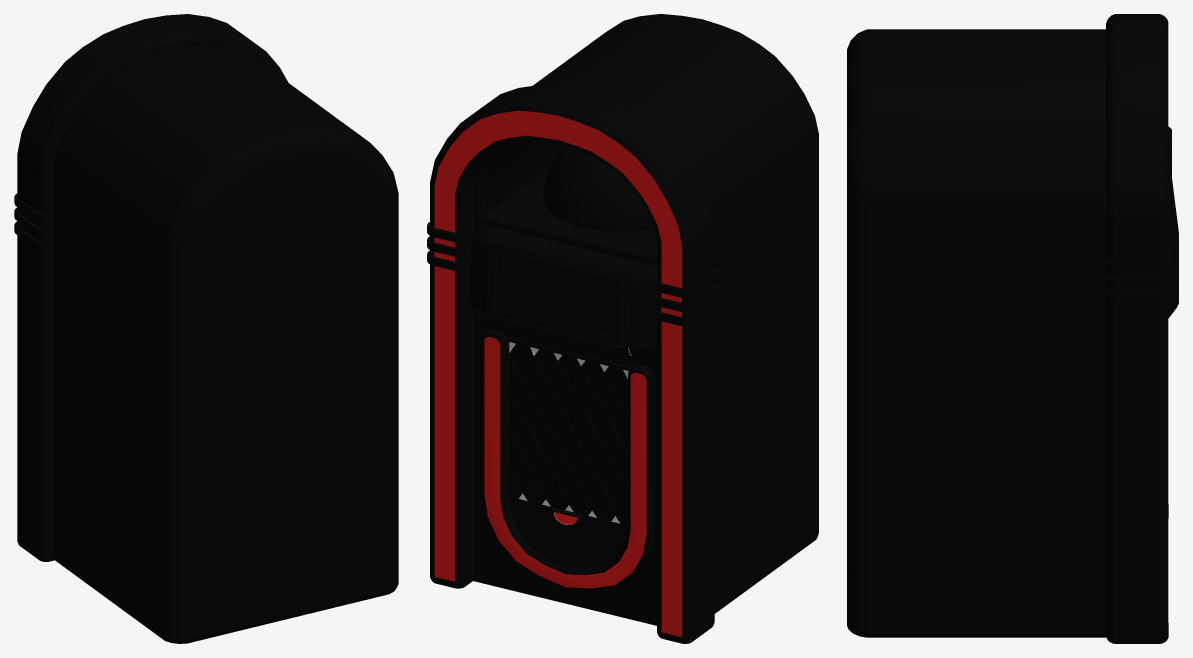
File: Jukebox.fbx
3 renders of one model, left to right at view 1: azimuth 30°, elevation 25°; view 2: azimuth 150°, elevation 25°; view 3: azimuth 270°, elevation 25°, orthographic. The views are drawn at different scales.
Parts seen in each view (by area): view 1: pCube2; view 2: pCube2; view 3: pCube2.
Boxes of the visible parts, <box> form: pCube2: <box>14,14,398,643</box>; pCube2: <box>427,14,818,643</box>; pCube2: <box>847,14,1178,643</box>.
Bounding box in the file's own units: 5.6 × 10.12 × 5.6.
Materials: 14 (1 with a texture image).
